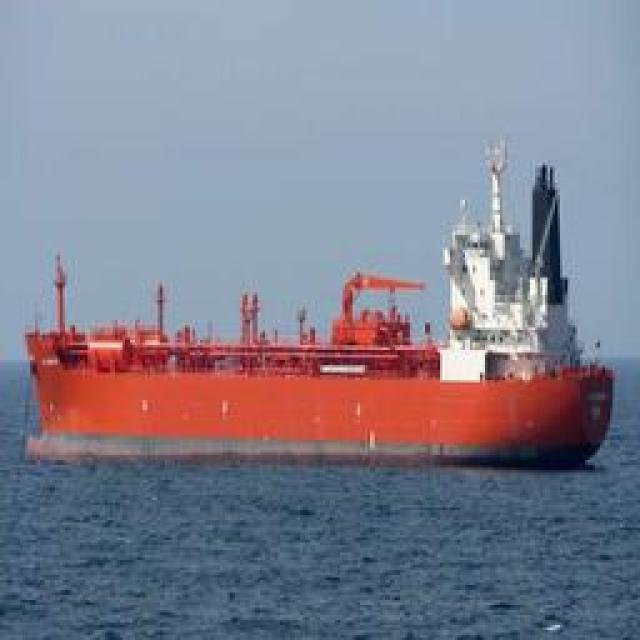CIV_Ship: (24, 168, 622, 466)
